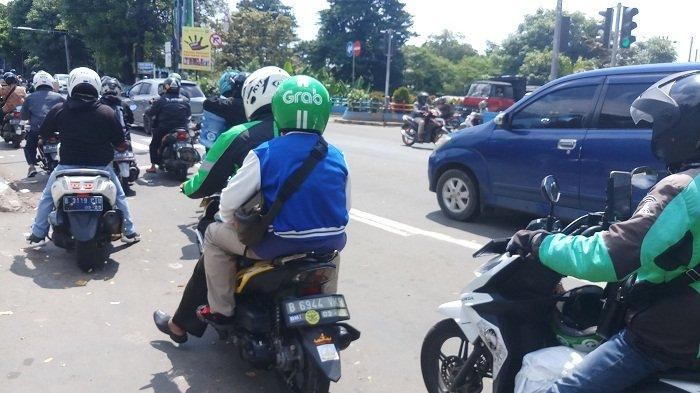plate: (284, 295, 350, 322), (62, 195, 104, 211), (113, 150, 135, 160), (172, 141, 193, 149), (43, 144, 60, 153), (10, 117, 26, 123)
